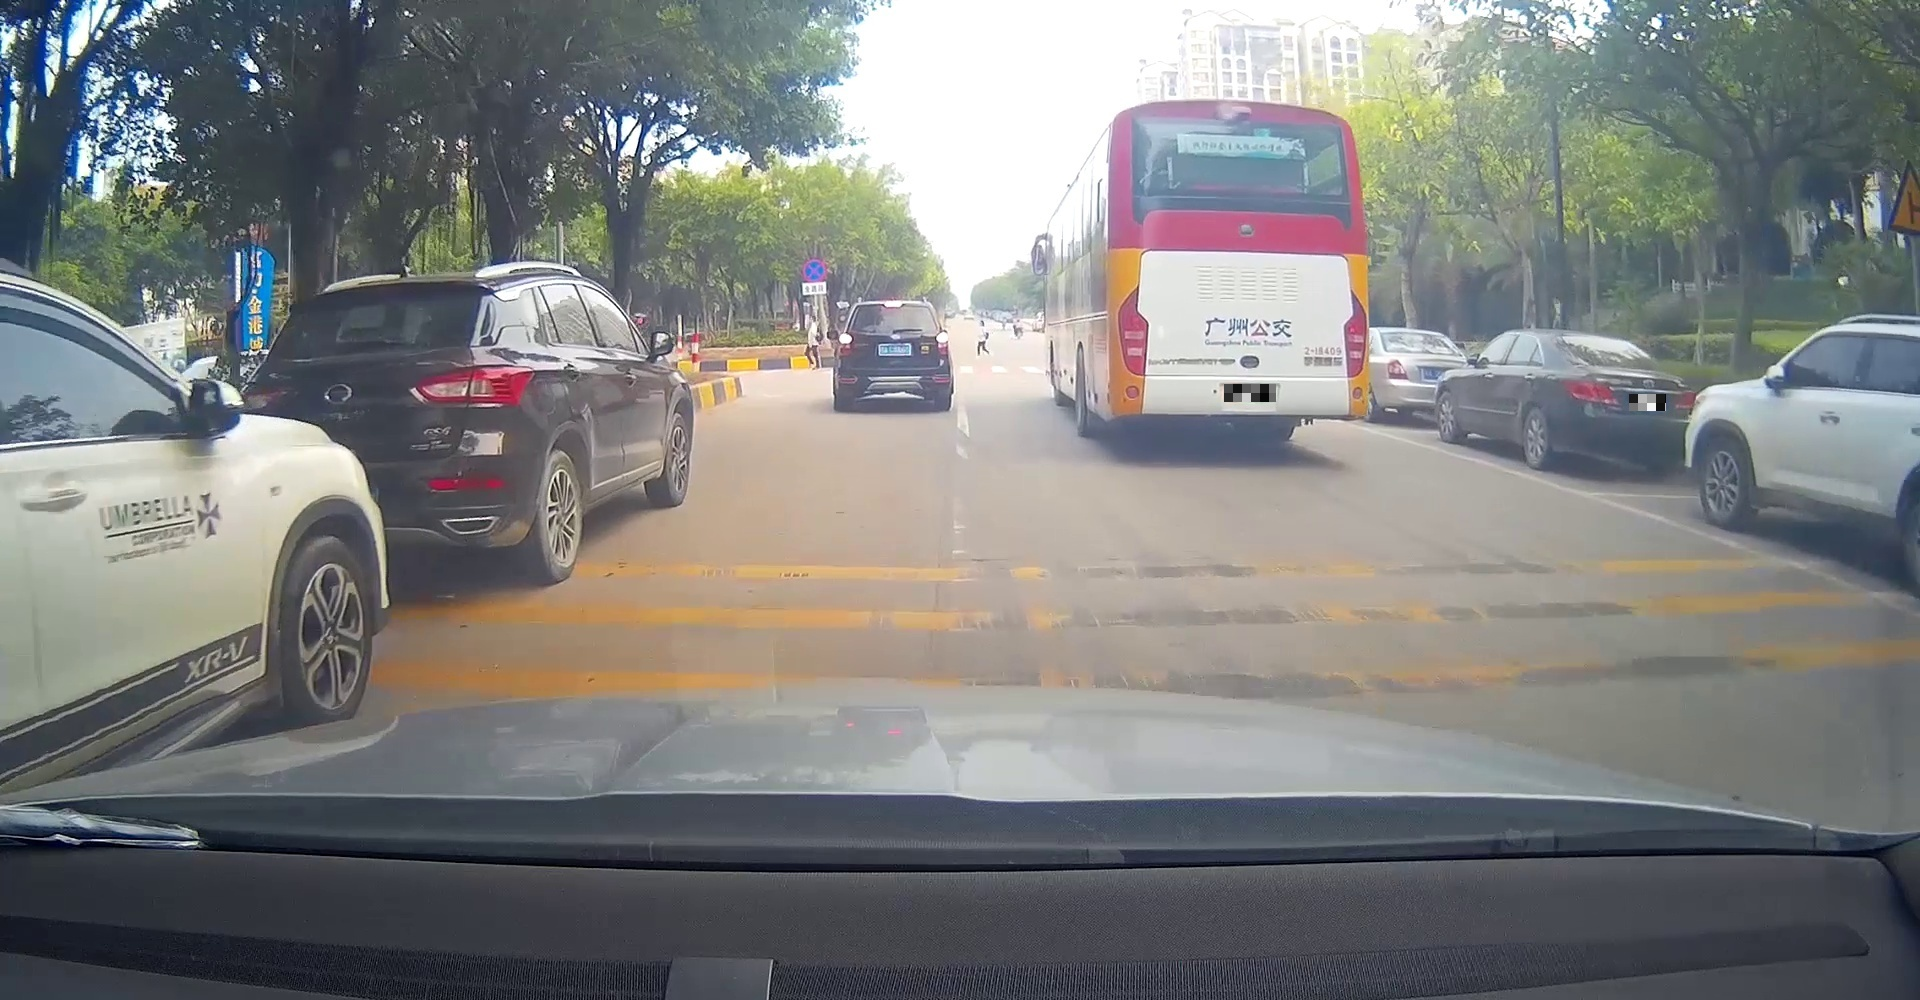L_light: (1117, 283, 1149, 376), (1559, 379, 1622, 404), (837, 332, 853, 357)
R_light: (1343, 289, 1368, 377), (1674, 391, 1697, 409), (935, 331, 950, 357)
T_light: (1223, 107, 1255, 122), (883, 301, 905, 308), (1592, 332, 1609, 339)
day-brake: (834, 299, 952, 411)
day-no: (1109, 99, 1369, 442), (1550, 329, 1697, 473)
plate_1: (1224, 385, 1276, 402)
plate_2: (1629, 393, 1666, 411)
